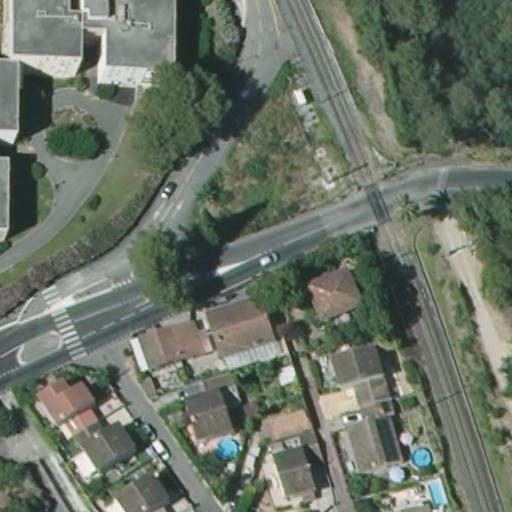pool: (426, 477, 447, 507), (213, 438, 241, 459), (413, 444, 433, 470)
